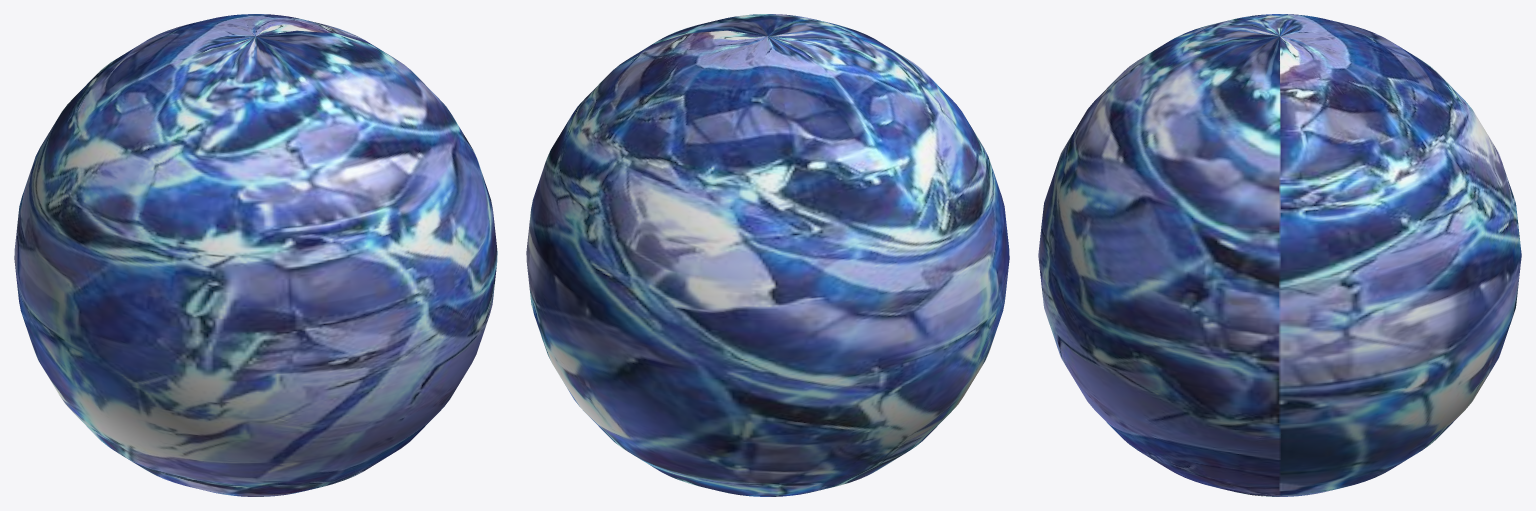
The model's file is EsferaPlataforma.obj.
3 views of the same model, side by side, from view 1: azimuth 30°, elevation 25°; view 2: azimuth 150°, elevation 25°; view 3: azimuth 270°, elevation 25° (orthographic).
Visible parts, largest first — view 1: Sphere.001; view 2: Sphere.001; view 3: Sphere.001.
Boxes of the visible parts, left/top/right/bottom form: Sphere.001: left=14, top=14, right=497, bottom=496; Sphere.001: left=526, top=14, right=1009, bottom=496; Sphere.001: left=1038, top=14, right=1521, bottom=496.
Bounding box in the file's own units: 1.2 × 1.2 × 1.2.
